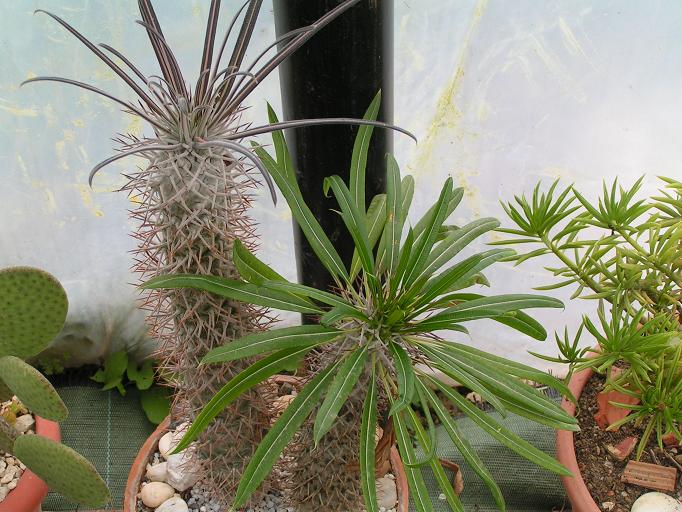Pachypodium lamerei Drake: (89, 41, 278, 501), (314, 203, 428, 501)
